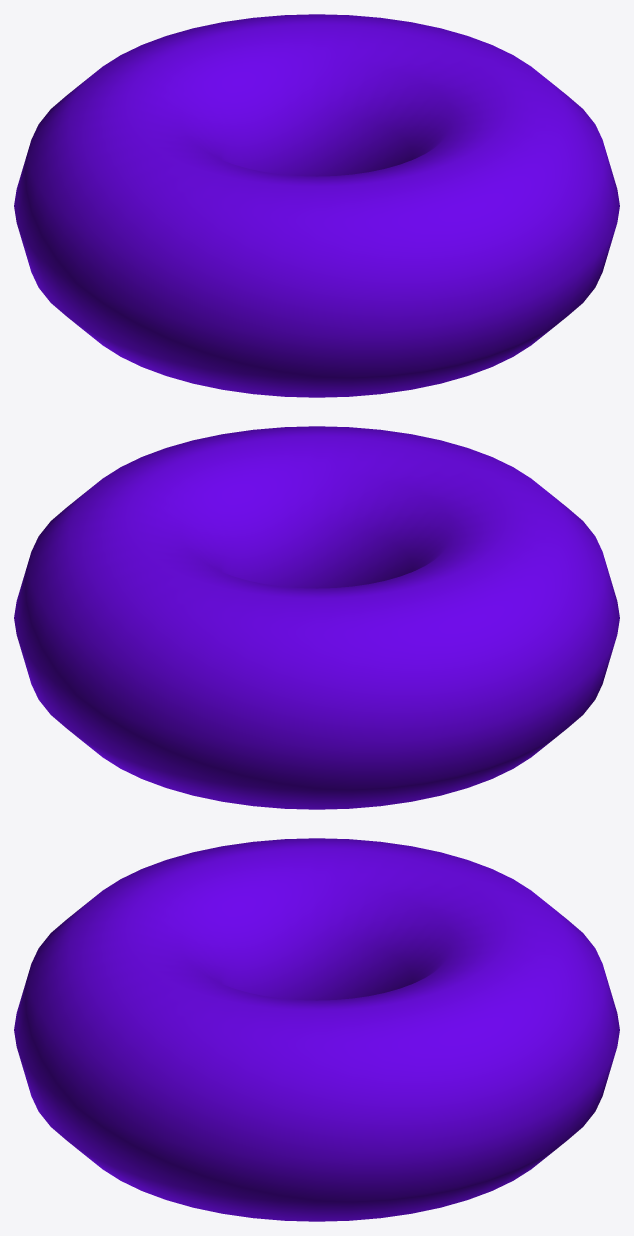
The picture shows the model from 3 angles, top to bottom: view 1: azimuth 30°, elevation 25°; view 2: azimuth 150°, elevation 25°; view 3: azimuth 270°, elevation 25°; orthographic projection.
Visible parts, largest first — view 1: Torus; view 2: Torus; view 3: Torus.
Part boxes in pixels (x1,y1,x2,y2): Torus: (14, 14, 619, 397); Torus: (14, 426, 619, 809); Torus: (14, 838, 619, 1221).
Size of the model in its own units: 5.24 by 1.92 by 5.24.
